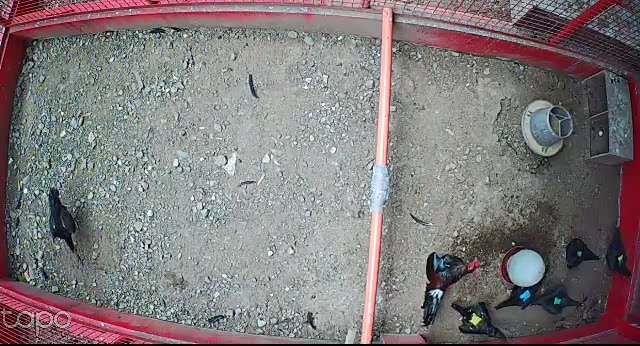Chicken: (38, 181, 95, 266), (494, 264, 554, 313), (514, 281, 593, 318), (449, 301, 509, 344), (602, 224, 636, 288), (559, 237, 606, 271)
Drinker: (500, 244, 546, 289)
Feeder: (520, 100, 575, 156)
Rooster: (409, 246, 489, 330)
Saddle_Color_Blue: (519, 288, 531, 302)
Saddle_Color_Yellow: (468, 313, 483, 326)
Saddle_Color_YellowGreen: (616, 254, 625, 264)
